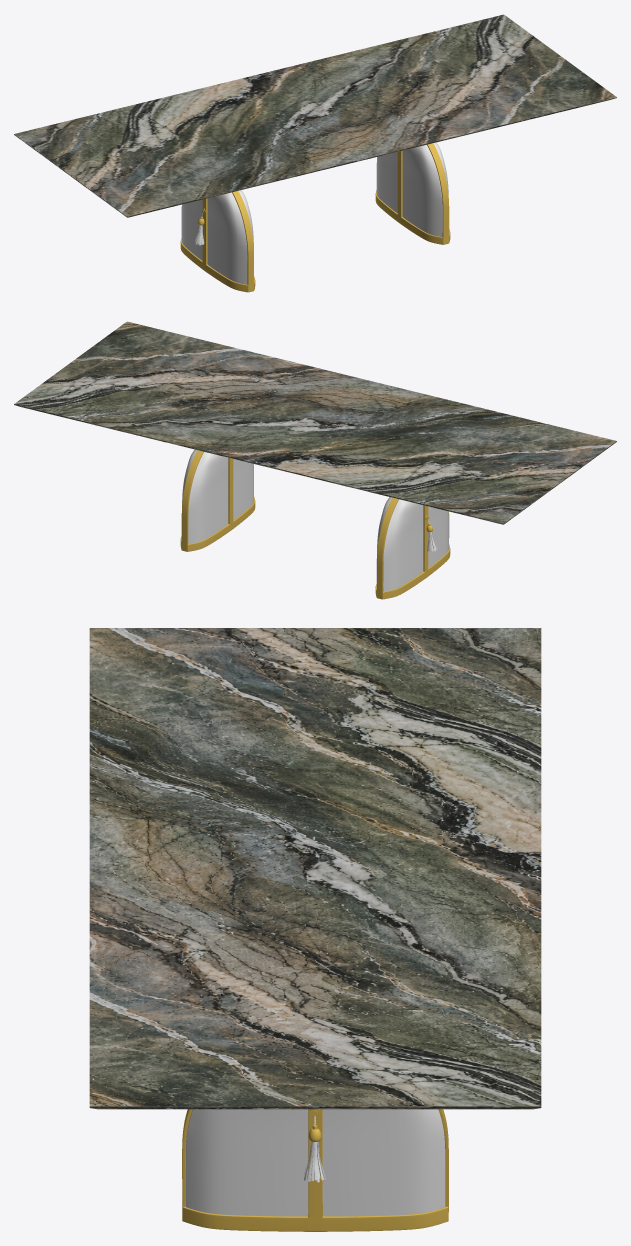
The model's file is SLN_Hour_Glass_300.glb.
The picture shows the model from 3 angles, top to bottom: view 1: azimuth 30°, elevation 25°; view 2: azimuth 150°, elevation 25°; view 3: azimuth 270°, elevation 25°; orthographic projection. The views are drawn at different scales.
Parts seen in each view (by area): view 1: Hour_Glass_300; view 2: Hour_Glass_300; view 3: Hour_Glass_300.
Part boxes in pixels (x1,y1,x2,y2): Hour_Glass_300: [14, 14, 616, 292]; Hour_Glass_300: [14, 321, 616, 599]; Hour_Glass_300: [89, 628, 541, 1231].
Size of the model in its own units: 3 by 0.7504 by 1.2.
Materials: 3 (1 with a texture image).
